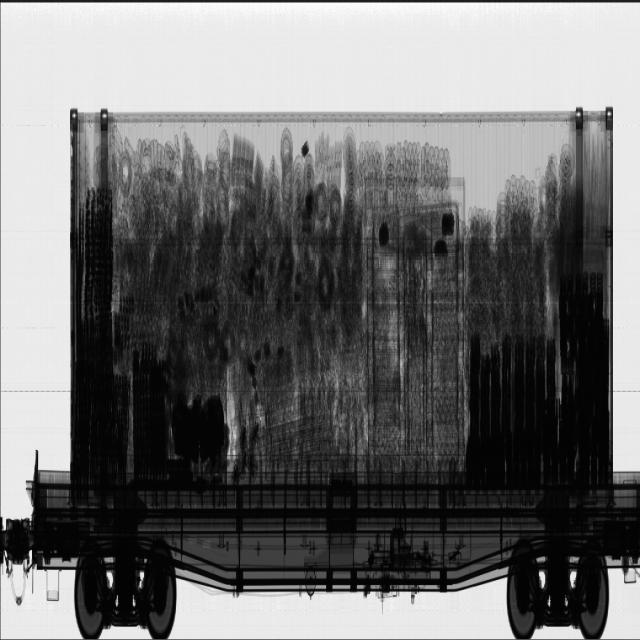clothes: (70, 122, 597, 468)
